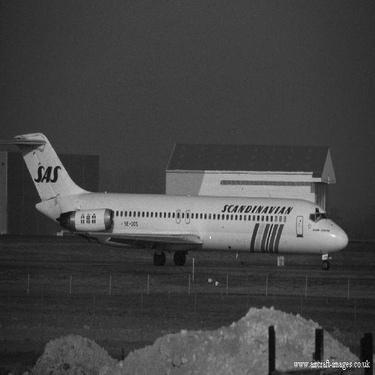airplane: (8, 115, 361, 285)
